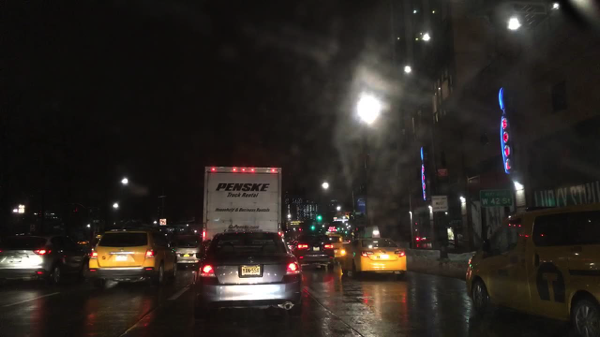car: (465, 208, 599, 336), (192, 231, 303, 319), (90, 223, 177, 287), (1, 233, 91, 284), (339, 236, 407, 277), (288, 233, 334, 272), (171, 234, 203, 267), (326, 235, 347, 259)
traffic light: (316, 215, 321, 223), (310, 225, 316, 231)
traffic sign: (479, 191, 511, 208), (431, 195, 447, 213), (437, 168, 446, 176), (160, 219, 167, 225)
truck: (203, 166, 282, 249)
